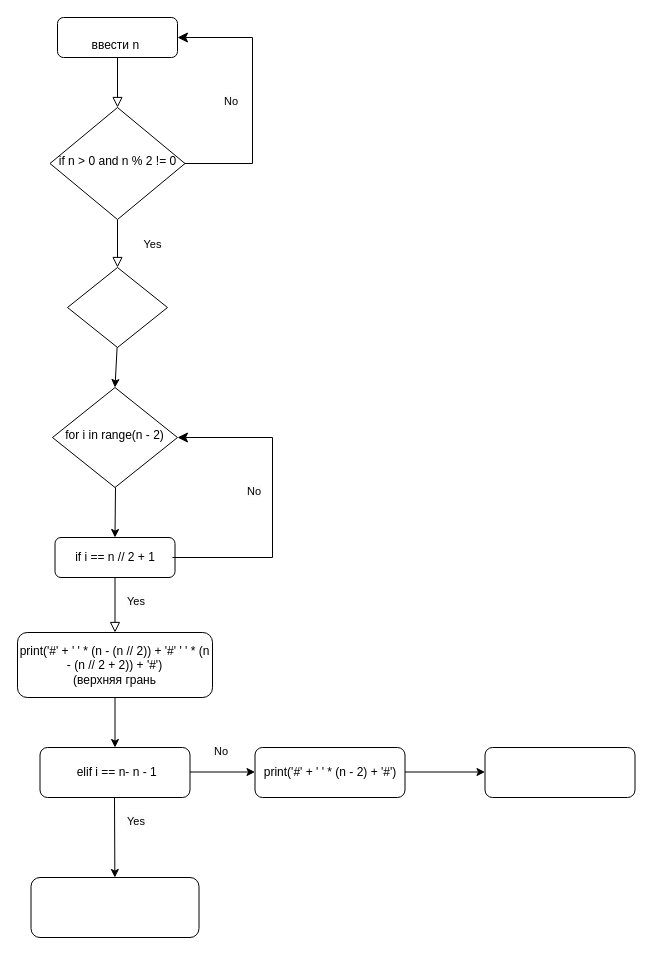
This 653x955 diagram has some shape labels left out. The centre of each missing label's shape, as x and y in pixels:
"print '#'" belongs at point (117, 307).
"print('#' * n)" belongs at point (559, 772).
"print(print('##' + ' ' * (n - 4) + '##'))" belongs at point (114, 907).
